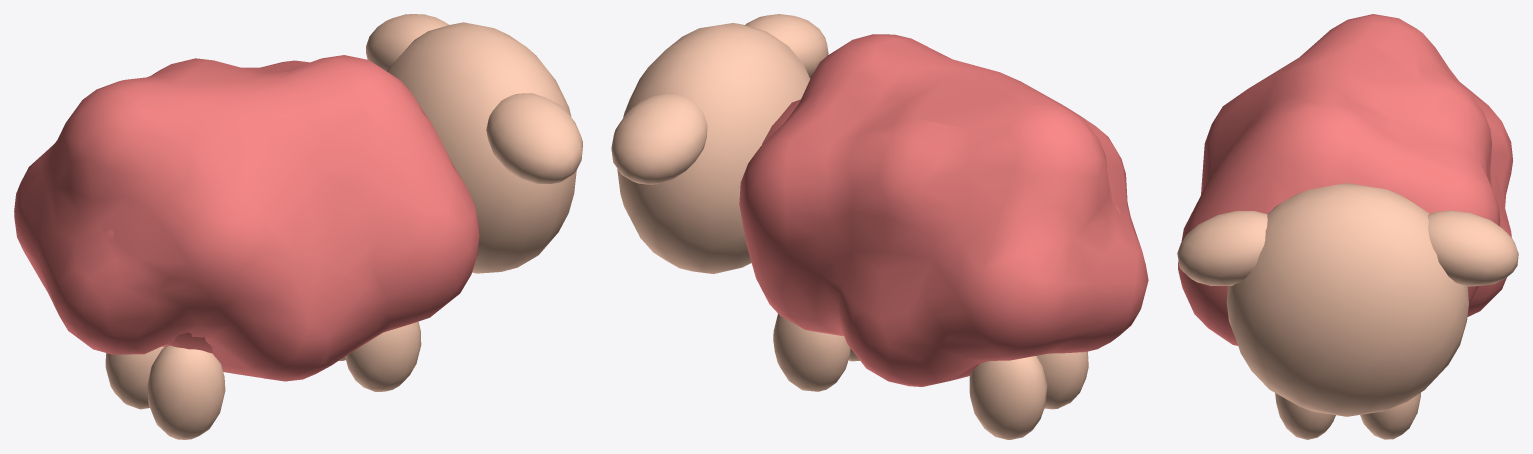
The model's file is owca.gltf.
The picture shows the model from 3 angles, left to right: view 1: azimuth 30°, elevation 25°; view 2: azimuth 150°, elevation 25°; view 3: azimuth 270°, elevation 25°; orthographic projection. The views are drawn at different scales.
Visible parts, largest first — view 1: Mball.015, Sphere.001, Sphere.003, Sphere.002, Sphere.004; view 2: Mball.015, Sphere.001, Sphere.003, Sphere.002; view 3: Mball.015, Sphere.001, Sphere.002, Sphere.003.
Boxes of the visible parts, <box> form: Mball.015: <box>14,55,479,381</box>; Sphere.001: <box>387,22,576,273</box>; Sphere.003: <box>105,321,421,439</box>; Sphere.002: <box>366,14,582,183</box>; Sphere.004: <box>105,230,212,353</box>; Mball.015: <box>739,34,1148,386</box>; Sphere.001: <box>617,23,809,273</box>; Sphere.003: <box>773,314,1088,439</box>; Sphere.002: <box>611,14,828,184</box>; Mball.015: <box>1178,14,1512,345</box>; Sphere.001: <box>1226,183,1468,416</box>; Sphere.002: <box>1177,210,1518,286</box>; Sphere.003: <box>1275,393,1420,439</box>.
Bounding box in the file's own units: 0.8742 × 0.5542 × 0.5415.
2 materials, 2 textured.
